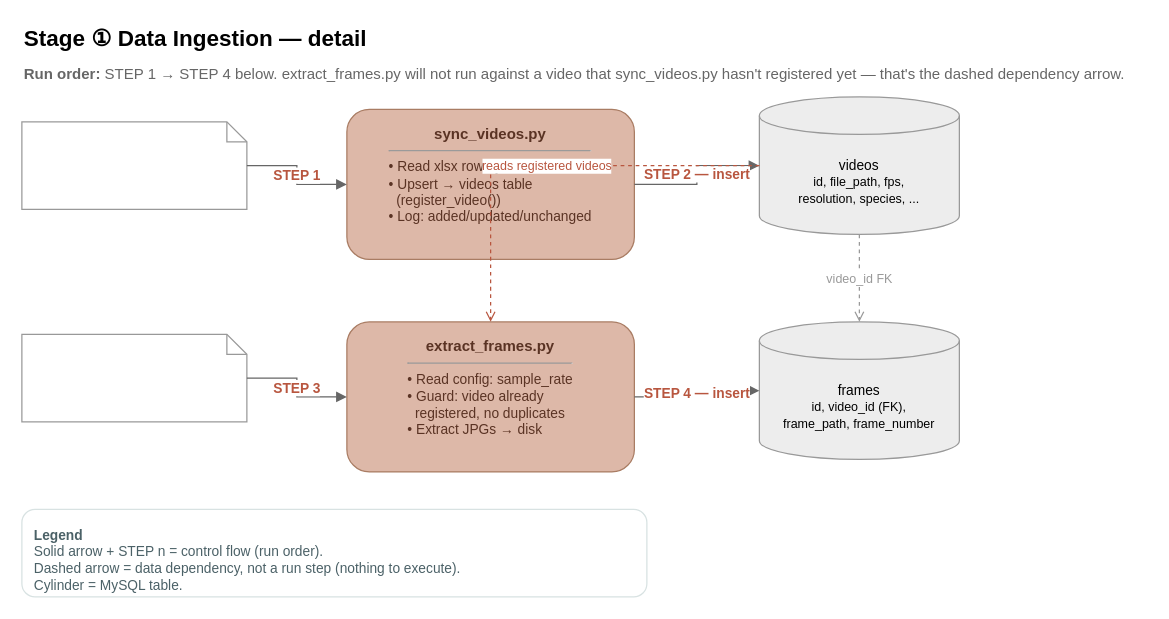
The diagram is 1169 pixels wide and 619 high, and some of its shapes have lost their labels. The centre of each missing label's shape, as x and y in pixels:
"Video files (.MOV) IMG_0350, IMG_2349, ..." belongs at point 134,377.
"video_metadata.xlsx manual video metadata" belongs at point 134,165.
